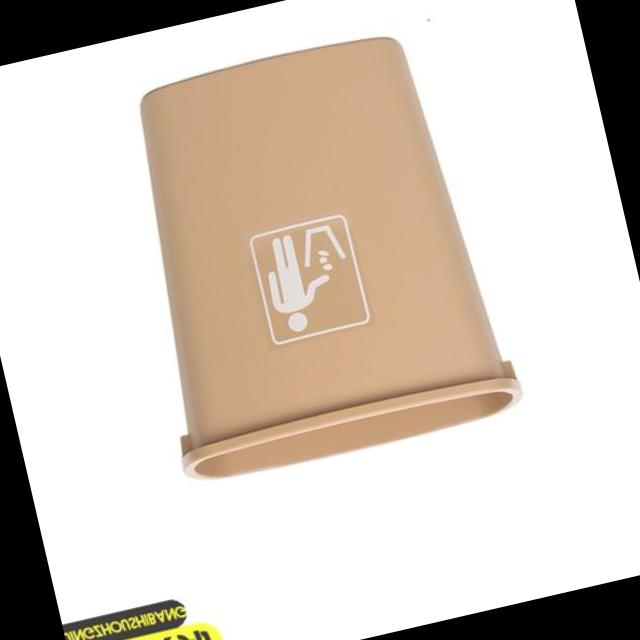dustbin: (90, 14, 534, 498)
